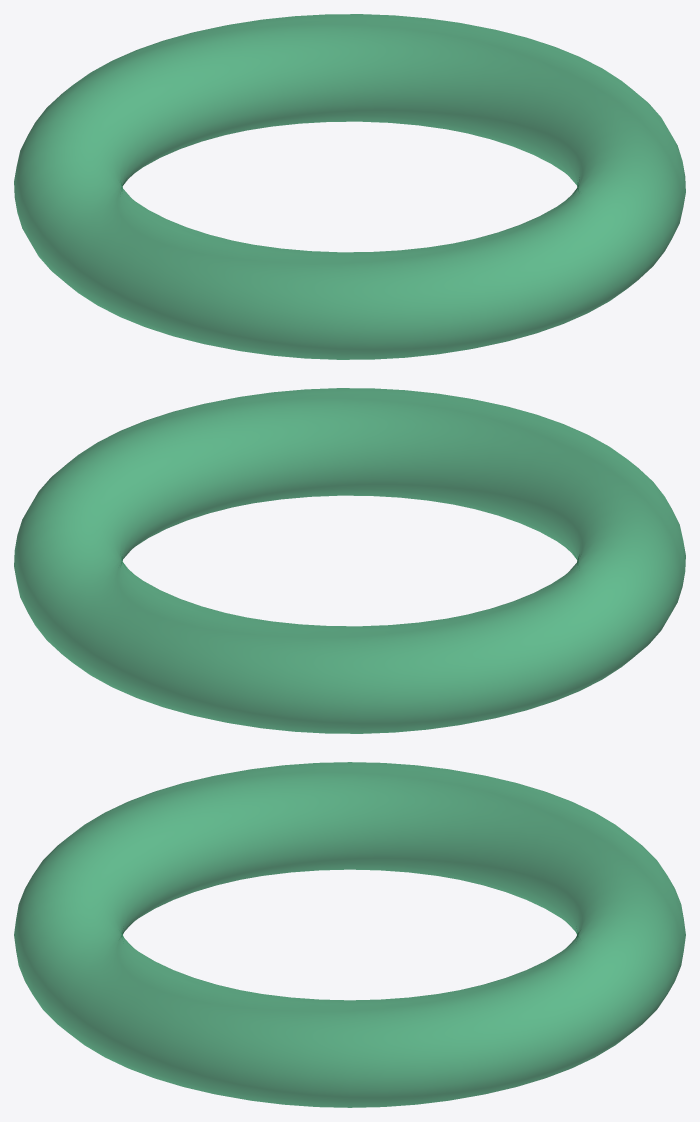
The model's file is yuzhuo.glb.
3 views of the same model, one above another, from view 1: azimuth 30°, elevation 25°; view 2: azimuth 150°, elevation 25°; view 3: azimuth 270°, elevation 25° (orthographic).
Visible parts, largest first — view 1: yuzhuo; view 2: yuzhuo; view 3: yuzhuo.
Part boxes in pixels (x1=…): yuzhuo: x1=14, y1=14, x2=685, y2=359; yuzhuo: x1=14, y1=388, x2=685, y2=733; yuzhuo: x1=14, y1=762, x2=685, y2=1107.
Size of the model in its own units: 1.24 by 0.2 by 1.24.
